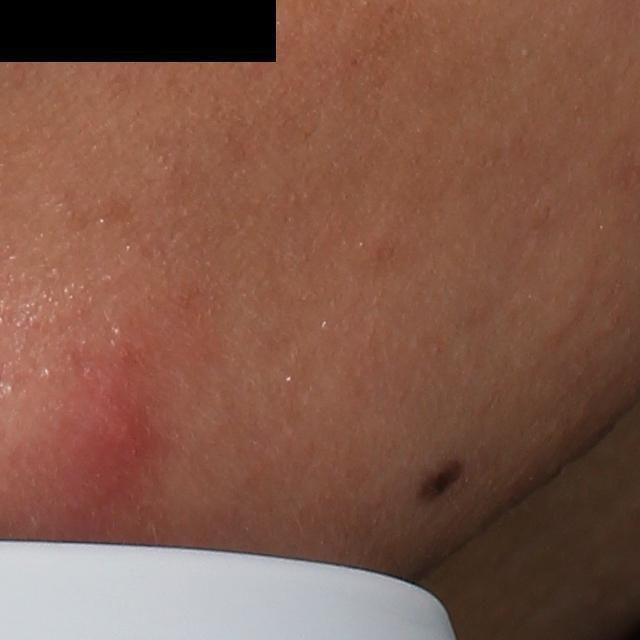nevus: (408, 455, 470, 505)
nodule: (56, 344, 179, 529)
